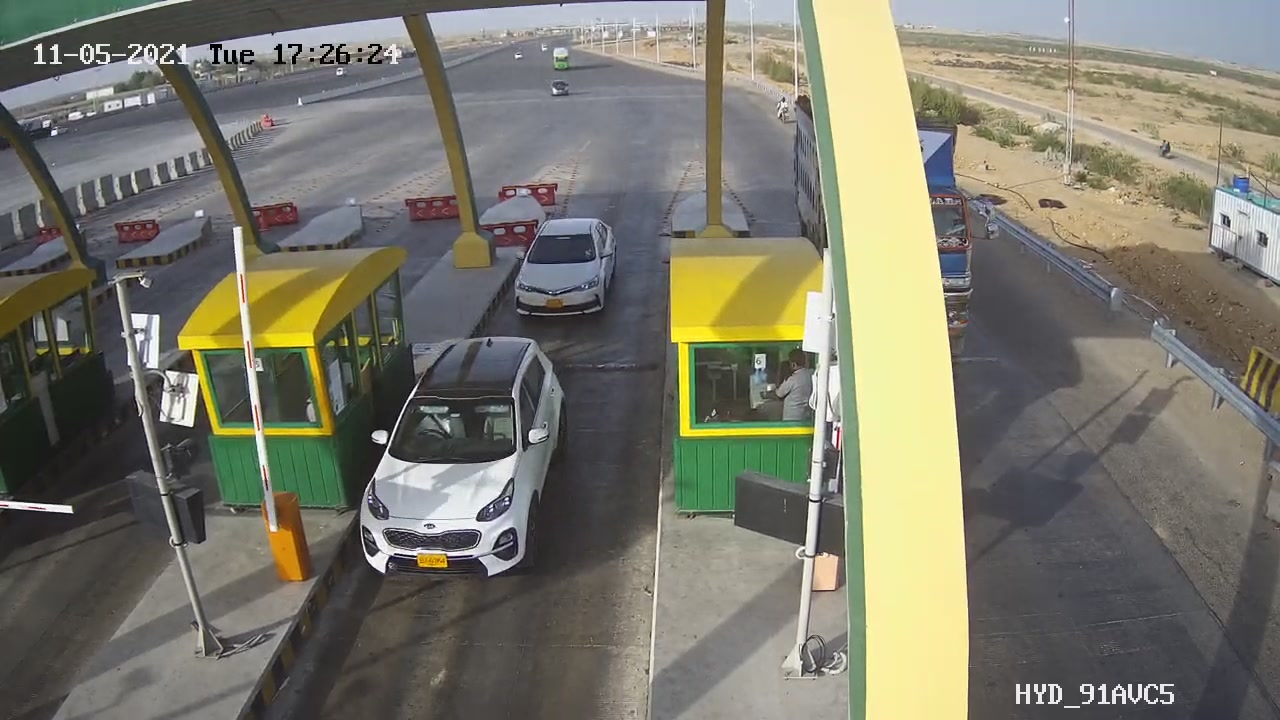F1: (343, 320, 582, 599), (501, 209, 630, 329)
